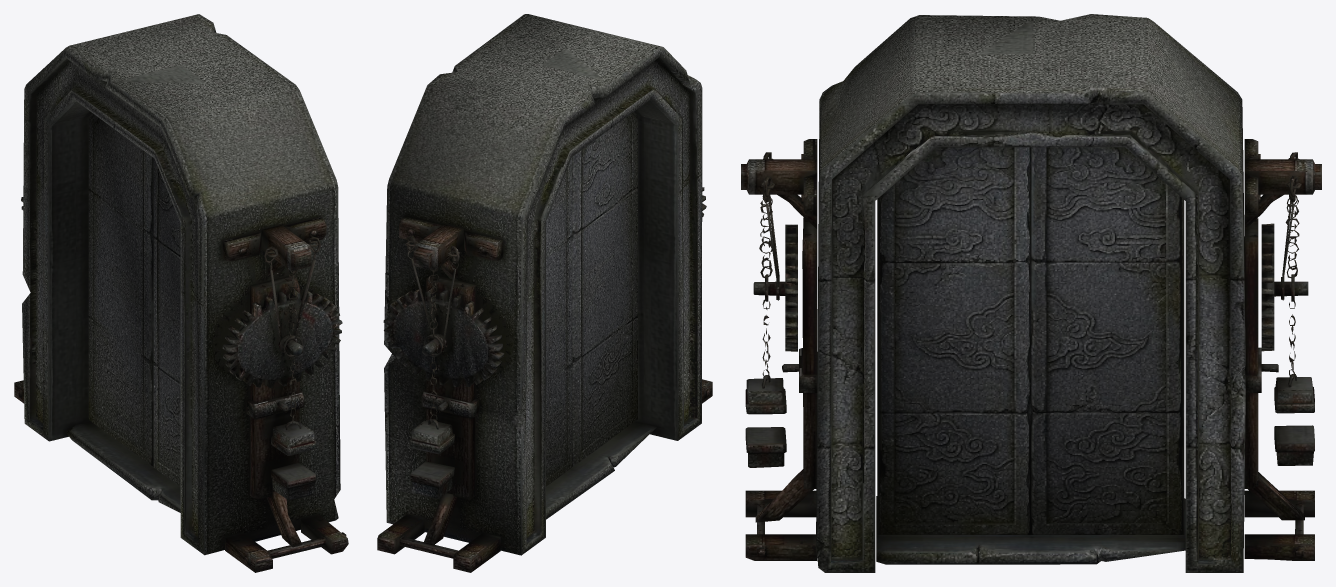
The model's file is tripo_convert_be5d8d79-57be-4e02-91cb-729314c54ac6.fbx.
The picture shows the model from 3 angles, left to right: view 1: azimuth 30°, elevation 25°; view 2: azimuth 150°, elevation 25°; view 3: azimuth 270°, elevation 25°; orthographic projection. The views are drawn at different scales.
Parts seen in each view (by area): view 1: tripo_node_be5d8d79; view 2: tripo_node_be5d8d79; view 3: tripo_node_be5d8d79.
Boxes of the visible parts, x1,y1,x2,y2 form: tripo_node_be5d8d79: [14, 14, 348, 572]; tripo_node_be5d8d79: [377, 14, 712, 572]; tripo_node_be5d8d79: [741, 14, 1321, 572].
Bounding box in the file's own units: 0.3223 × 0.9121 × 0.998.
Materials: 1 (1 with a texture image).
